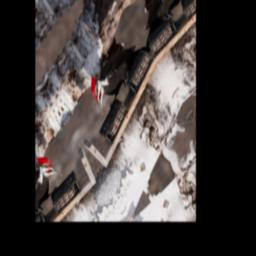Woodpecker: (83, 26, 147, 123)
